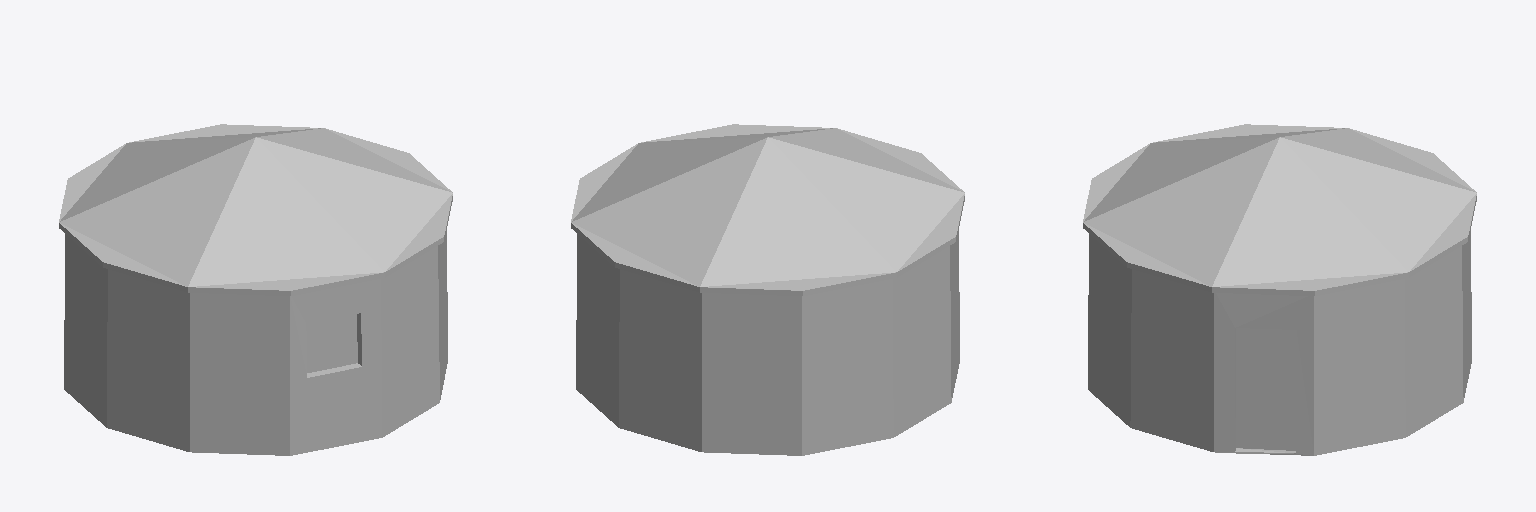
File: windmill_base.obj
3 renders of one model, left to right at view 1: azimuth 30°, elevation 25°; view 2: azimuth 150°, elevation 25°; view 3: azimuth 270°, elevation 25°, orthographic.
Visible parts, largest first — view 1: polySurface18 WindMill; view 2: polySurface18 WindMill; view 3: polySurface18 WindMill.
Boxes of the visible parts, x1=… form: polySurface18 WindMill: x1=59, y1=124, x2=452, y2=455; polySurface18 WindMill: x1=571, y1=124, x2=964, y2=455; polySurface18 WindMill: x1=1083, y1=124, x2=1476, y2=455.
Bounding box in the file's own units: 61.13 × 40.66 × 61.13.